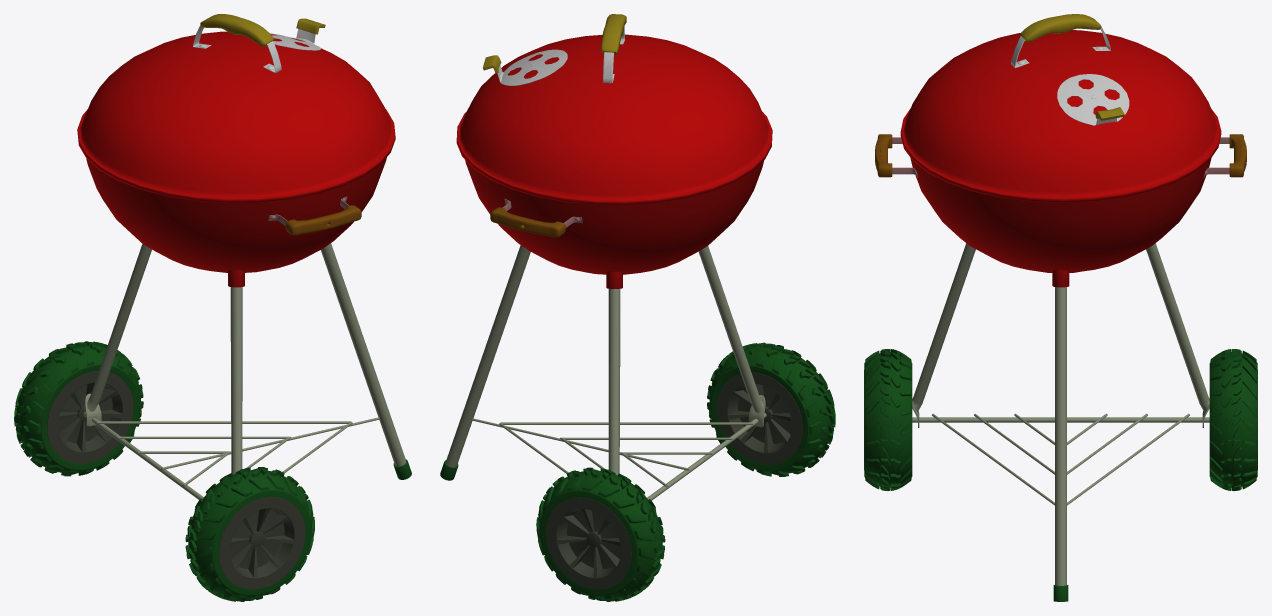
File: Grill.FBX
3 renders of one model, left to right at view 1: azimuth 30°, elevation 25°; view 2: azimuth 150°, elevation 25°; view 3: azimuth 270°, elevation 25°, orthographic.
Visible parts, largest first — view 1: lid_low, wheels and structure, base_low; view 2: lid_low, wheels and structure, base_low; view 3: lid_low, wheels and structure, base_low.
Boxes of the visible parts, x1,y1,x2,y2 form: lid_low: (77, 14, 395, 203); wheels and structure: (14, 243, 411, 601); base_low: (86, 157, 386, 287); lid_low: (456, 14, 772, 205); wheels and structure: (440, 245, 835, 601); base_low: (465, 160, 763, 288); lid_low: (900, 14, 1221, 202); wheels and structure: (864, 243, 1257, 601); base_low: (875, 134, 1246, 287).
Size of the model in its own units: 35.37 by 54.03 by 38.35.
